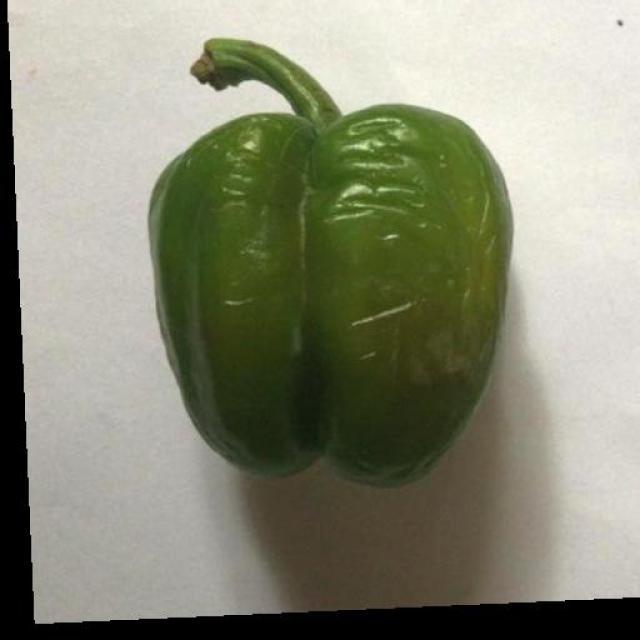Stale_Capsicum: (130, 31, 531, 502)
